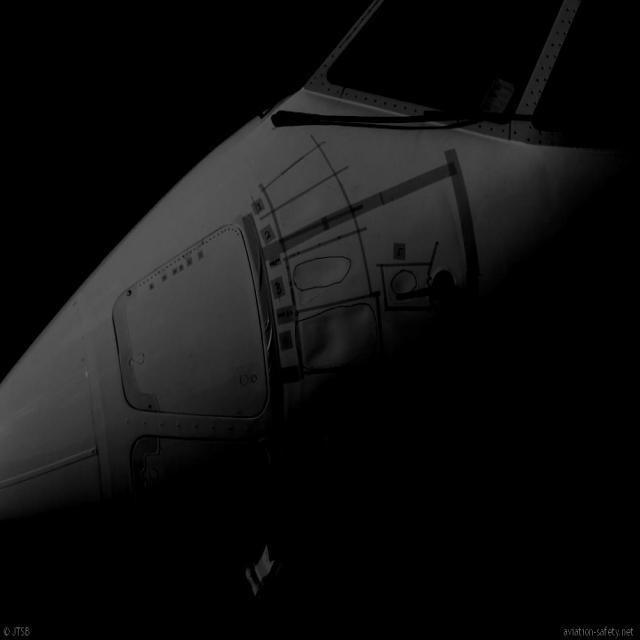dent: (292, 257, 353, 290), (307, 322, 344, 364), (395, 273, 415, 297), (350, 304, 368, 324)
